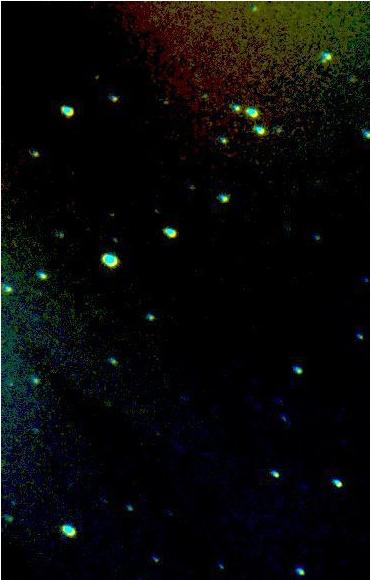star: (93, 382, 123, 412)
